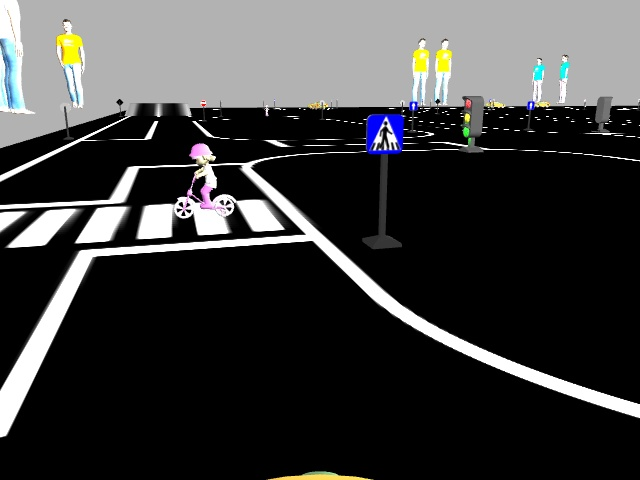Crosswalk: (363, 113, 405, 152)
Pedestrian: (170, 142, 238, 217)
TrafficLight: (462, 93, 484, 139)
